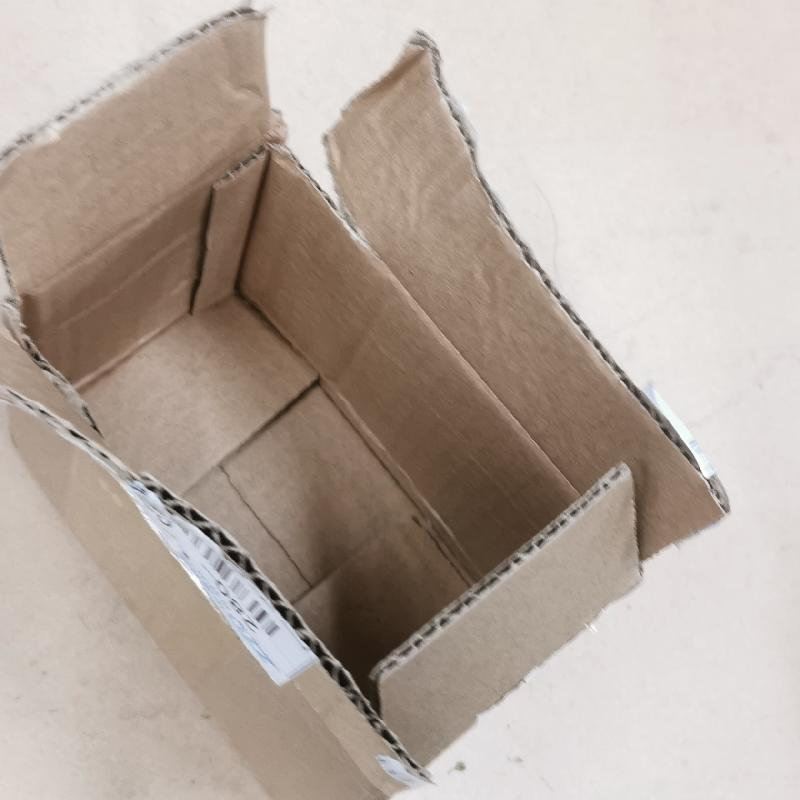boxes: (1, 3, 733, 796)
